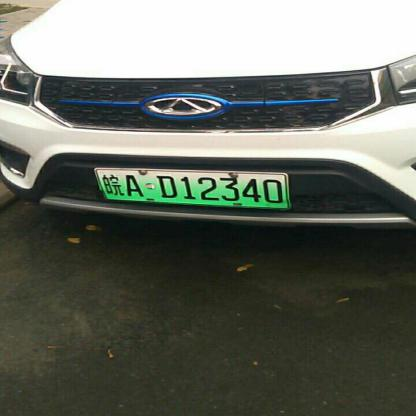lp: (95, 169, 289, 208)
